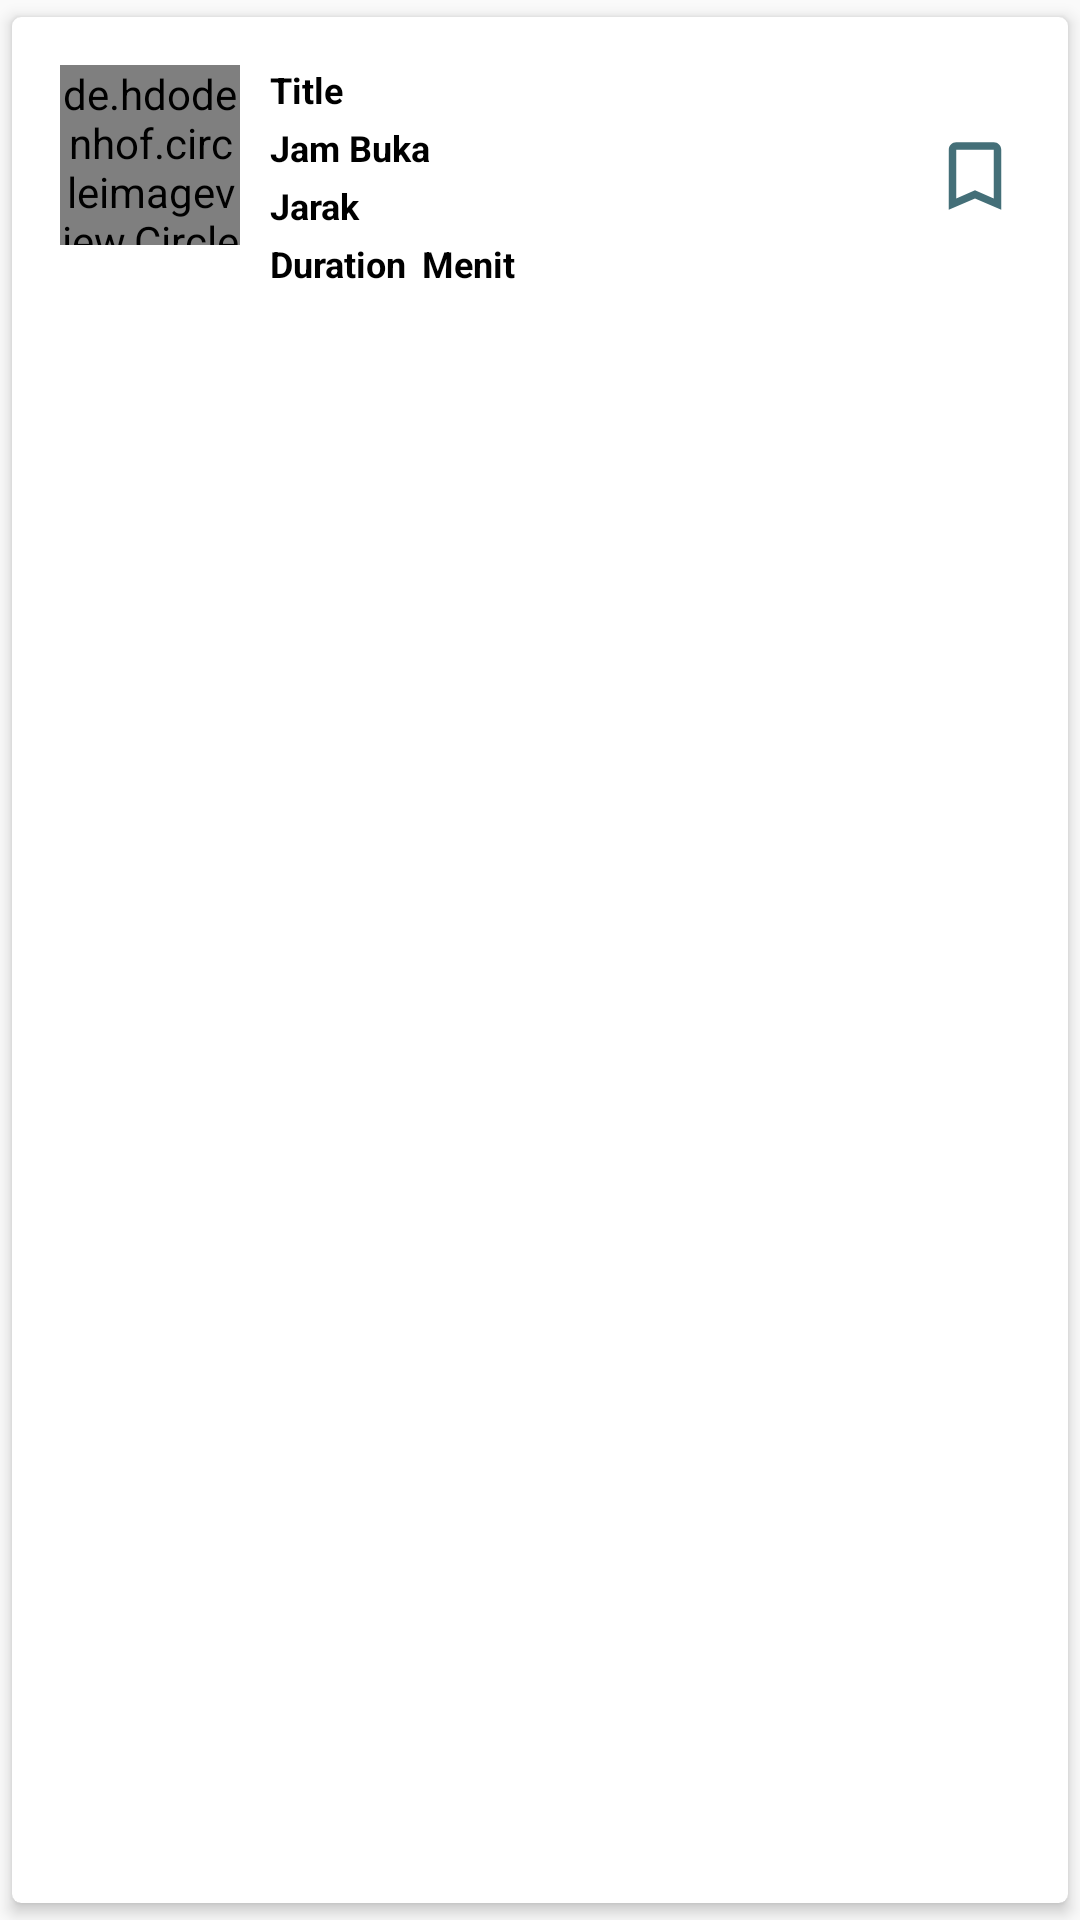

Screen size 1080w x 1920h. Icon name, then its center in pixels as [x,y]:
turned in not: [975,176]
